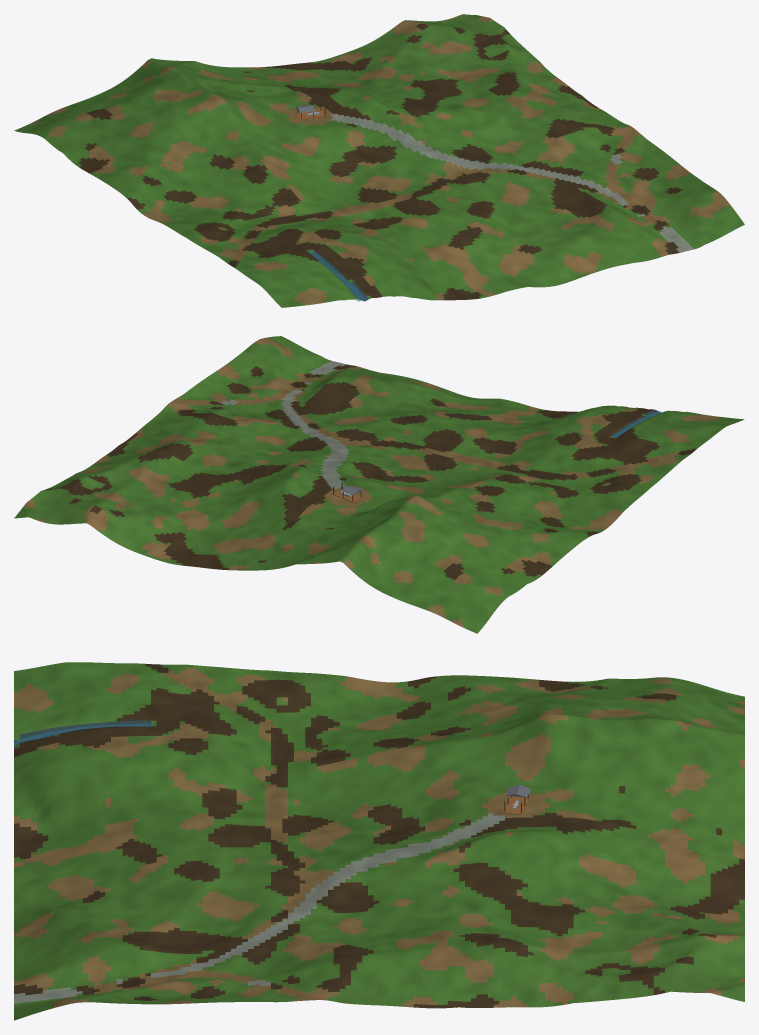
The model's file is chunk_1_2.glb.
3 views of the same model, one above another, from view 1: azimuth 30°, elevation 25°; view 2: azimuth 150°, elevation 25°; view 3: azimuth 270°, elevation 25° (orthographic). The views are drawn at different scales.
Parts seen in each view (by area): view 1: Surface_Grass, Surface_Dirt, Surface_Mud, Surface_Gravel, Surface_Water; view 2: Surface_Grass, Surface_Dirt, Surface_Mud, Surface_Gravel; view 3: Surface_Grass, Surface_Dirt, Surface_Mud, Surface_Gravel, Surface_Water, Structure_old_sawmill.
Boxes of the visible parts, bbox=[...] form: Surface_Grass: bbox=[14, 14, 744, 307]; Surface_Dirt: bbox=[29, 16, 729, 305]; Surface_Mud: bbox=[78, 23, 682, 300]; Surface_Gravel: bbox=[330, 113, 693, 252]; Surface_Water: bbox=[310, 251, 368, 301]; Surface_Grass: bbox=[14, 336, 744, 633]; Surface_Dirt: bbox=[22, 337, 722, 627]; Surface_Mud: bbox=[44, 364, 696, 579]; Surface_Gravel: bbox=[220, 361, 349, 489]; Surface_Grass: bbox=[14, 662, 744, 1020]; Surface_Dirt: bbox=[14, 667, 744, 1007]; Surface_Mud: bbox=[14, 664, 744, 1008]; Surface_Gravel: bbox=[14, 813, 504, 1003]; Surface_Water: bbox=[14, 720, 150, 746]; Structure_old_sawmill: bbox=[503, 785, 530, 814].
Size of the model in its own units: 256 by 41.47 by 256.
